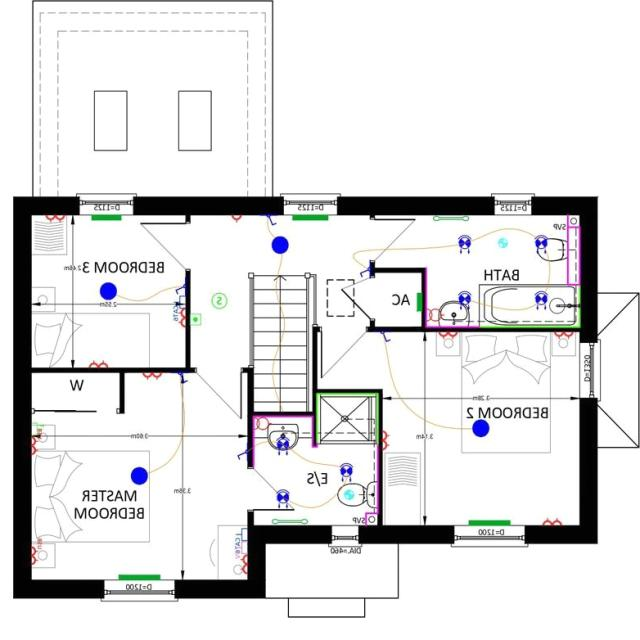Cat 6 Data Socket: (230, 522, 248, 540), (173, 293, 185, 310)
Ceiling Mounted Continuous Extract Fan With Boost Mode Activated By Light Switch: (479, 317, 580, 328), (568, 282, 578, 326), (492, 234, 513, 253), (339, 486, 358, 501)
Co-Ax TV Socket: (228, 540, 248, 552)
Double Socket: (35, 211, 77, 227), (435, 330, 466, 346), (547, 328, 578, 343), (537, 514, 568, 527), (379, 427, 394, 452), (234, 552, 248, 577), (135, 370, 169, 380), (84, 357, 121, 366), (178, 305, 185, 333)
Full Height Tiling: (313, 388, 377, 442)
Light Switch: (371, 328, 401, 344), (164, 276, 185, 295), (257, 211, 283, 225), (176, 368, 191, 391), (355, 261, 369, 284), (231, 446, 245, 468)
Low Energy Downlighter: (526, 228, 556, 259), (330, 452, 358, 483), (450, 228, 480, 256), (268, 486, 298, 513), (454, 287, 478, 312), (275, 430, 296, 458), (531, 287, 550, 313)
Low Energy Pendant Light: (468, 416, 497, 443), (124, 462, 152, 488), (268, 230, 292, 258), (96, 279, 118, 305)
Mains Wired Smoke Detector: (210, 290, 229, 311)
Programmable Room Thermostat: (189, 305, 202, 336)
Radiator: (455, 514, 521, 527), (282, 211, 336, 222), (86, 212, 128, 224), (116, 572, 164, 581), (410, 286, 422, 317)
Shaver Socket: (425, 304, 447, 324), (250, 414, 274, 431)
Single Socket: (223, 214, 248, 222)
Telephone Socket: (31, 418, 47, 434)
USB Double Socket: (29, 534, 44, 570), (28, 434, 46, 460)
